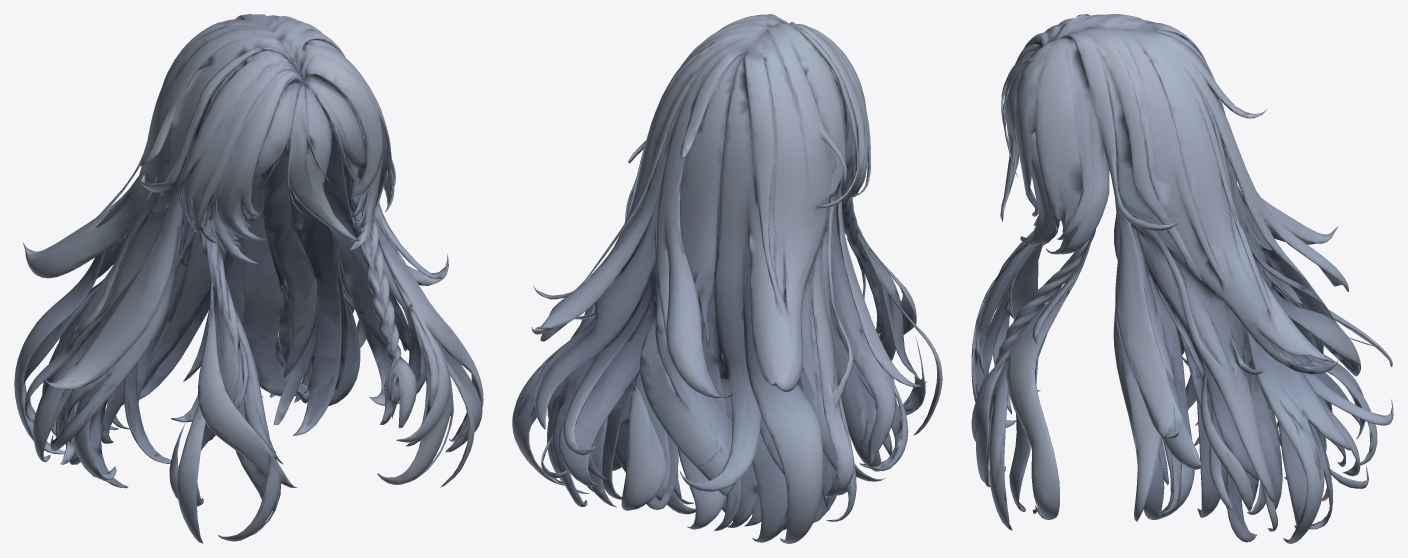
File: toc-mwxoeztj2o0.glb
The picture shows the model from 3 angles, left to right: view 1: azimuth 30°, elevation 25°; view 2: azimuth 150°, elevation 25°; view 3: azimuth 270°, elevation 25°; orthographic projection. The views are drawn at different scales.
Parts seen in each view (by area): view 1: node_0.007; view 2: node_0.007; view 3: node_0.007.
Boxes of the visible parts, left/top/right/bottom form: node_0.007: left=14, top=14, right=483, bottom=543; node_0.007: left=512, top=14, right=942, bottom=543; node_0.007: left=971, top=14, right=1393, bottom=543.
Size of the model in its own units: 0.3343 by 0.357 by 0.2962.
1 material, 1 textured.
